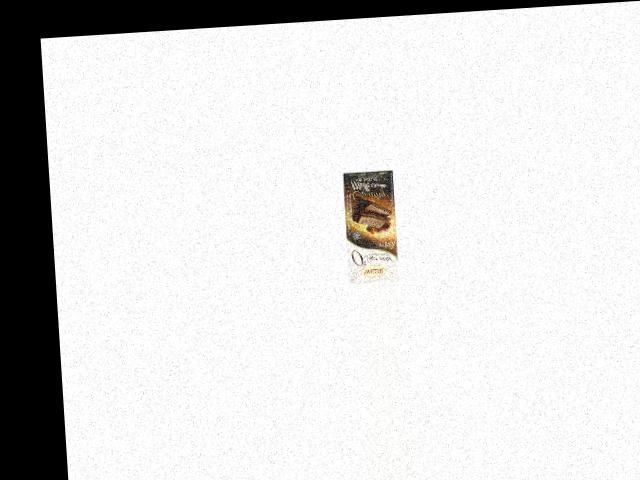chocolate: (338, 169, 401, 284)
